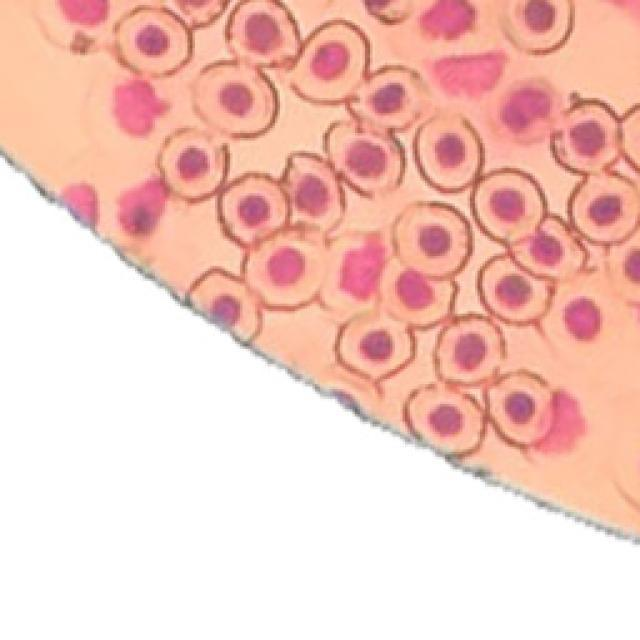RBC: (534, 270, 634, 365), (241, 227, 327, 312), (319, 232, 391, 323), (291, 20, 369, 103), (194, 61, 278, 137), (343, 65, 431, 135), (377, 256, 457, 331), (325, 122, 404, 196), (548, 97, 622, 176), (394, 205, 471, 277), (405, 384, 484, 454), (281, 152, 346, 236), (472, 169, 545, 243), (336, 312, 414, 381), (189, 269, 261, 343), (414, 114, 482, 192), (115, 9, 191, 75), (159, 128, 228, 200), (220, 174, 289, 245), (571, 173, 640, 244), (479, 256, 552, 323), (226, 0, 300, 66), (488, 371, 552, 445), (510, 216, 585, 279), (436, 315, 504, 384), (501, 0, 574, 54), (605, 226, 640, 306)
WBC: (434, 51, 506, 97), (535, 390, 586, 452), (114, 79, 165, 136), (118, 177, 168, 234), (502, 87, 551, 132), (421, 0, 475, 39), (60, 183, 98, 228), (59, 0, 109, 25)
